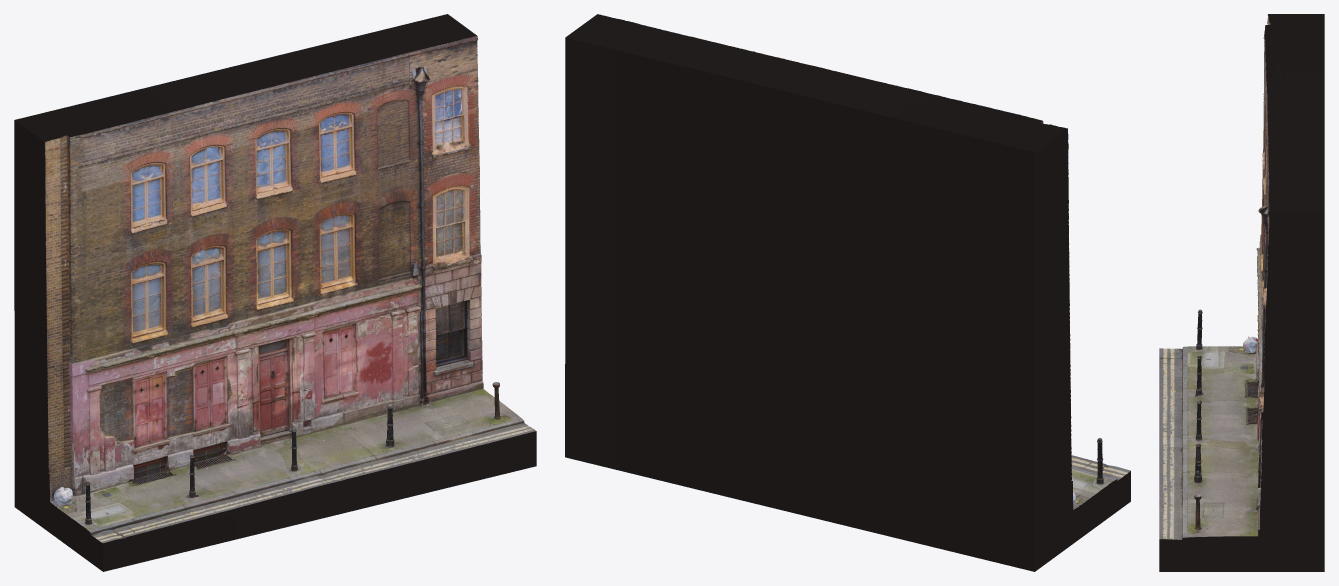
Rendered from 4_princelet_street.glb.
The picture shows the model from 3 angles, left to right: view 1: azimuth 30°, elevation 25°; view 2: azimuth 150°, elevation 25°; view 3: azimuth 270°, elevation 25°; orthographic projection. The views are drawn at different scales.
Visible parts, largest first — view 1: Object_2; view 2: Object_2; view 3: Object_2.
Boxes of the visible parts, <box> form: Object_2: <box>14,14,536,571</box>; Object_2: <box>565,14,1130,571</box>; Object_2: <box>1159,14,1324,571</box>.
Bounding box in the file's own units: 11.67 × 9.97 × 4.13.
Materials: 1 (1 with a texture image).
